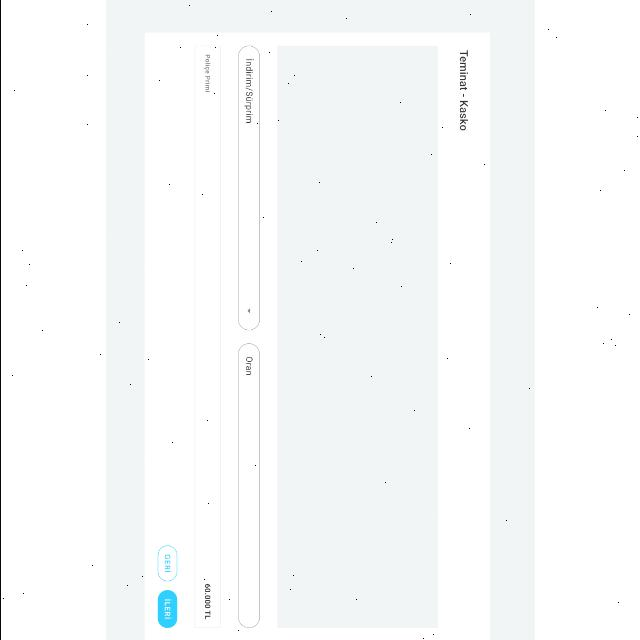QLabel: (454, 46, 472, 132), (163, 552, 171, 574), (163, 598, 171, 620)
VBtn: (157, 590, 177, 628), (157, 546, 177, 582)
VCard: (143, 32, 490, 640)
VCombobox: (237, 46, 261, 330)
VImg: (277, 46, 439, 628)
VTextField: (192, 45, 222, 629), (236, 344, 260, 628)
